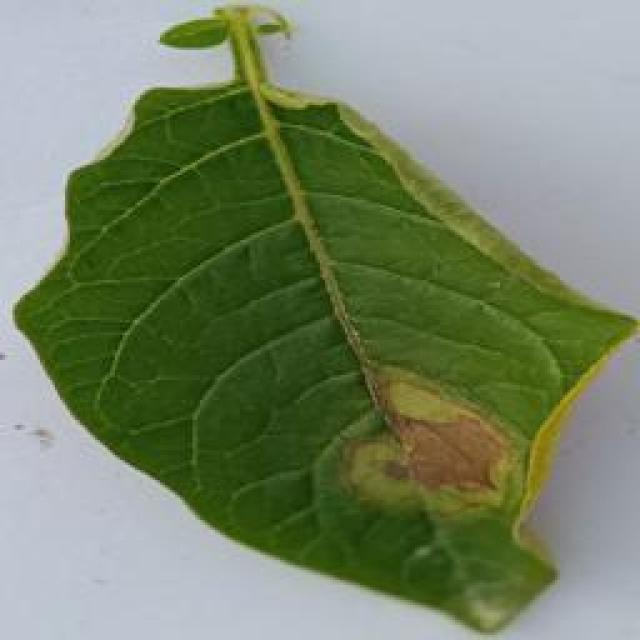Potato_Late_Blight: (16, 80, 628, 634)
